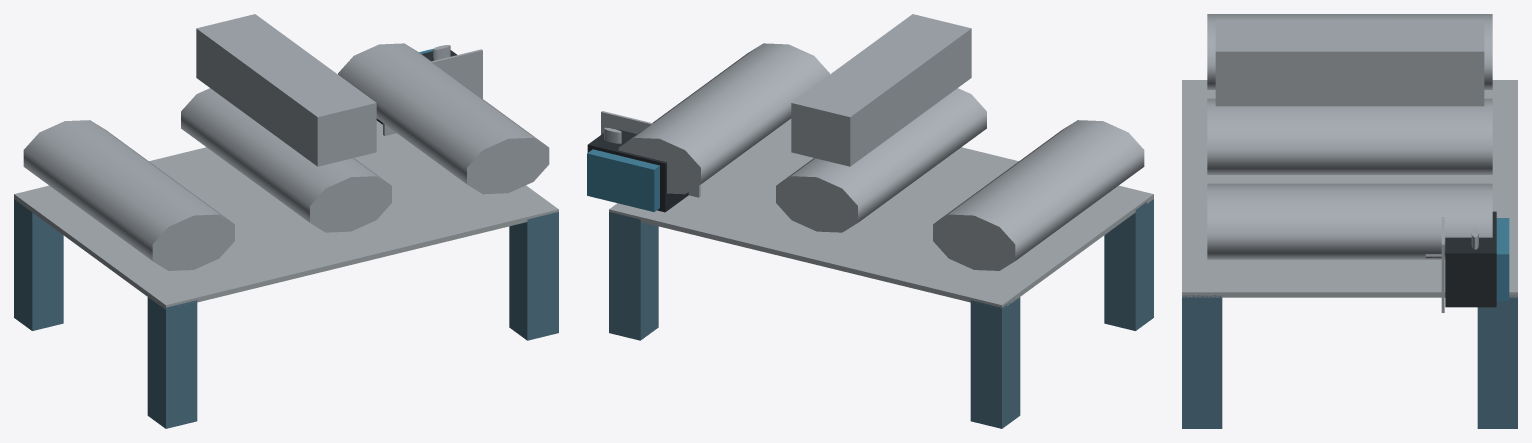
3 views of the same model, side by side, from view 1: azimuth 30°, elevation 25°; view 2: azimuth 150°, elevation 25°; view 3: azimuth 270°, elevation 25° (orthographic). The views are drawn at different scales.
Visible parts, largest first — view 1: g4, g0.005, g0, g0.003, g0.004, g1, g3, g0.002, g1.001; view 2: g4, g0.005, g0, g0.003, g0.004, g0.002, g2, g1, g3.001, g0.001, g1.001; view 3: g0, g4, g0.003, g0.004, g3, g2, g0.001, g0.005, g3.001, g1.001.
Boxes of the visible parts, x1,y1,x2,y2 form: g4: (14,120,558,309); g0.005: (23,120,234,270); g0: (196,14,376,166); g0.003: (338,43,549,194); g0.004: (181,88,391,232); g1: (147,297,197,428); g3: (509,212,558,340); g0.002: (14,199,63,330); g1.001: (383,49,482,135); g4: (609,118,1153,308); g0.005: (933,120,1144,270); g0: (791,14,971,166); g0.003: (618,43,829,194); g0.004: (776,88,986,232); g0.002: (970,297,1020,428); g2: (609,212,658,340); g1: (1104,199,1153,330); g3.001: (587,149,659,211); g0.001: (587,128,688,212); g1.001: (601,111,700,197); g0: (1215,19,1484,106); g4: (1182,80,1517,297); g0.003: (1207,183,1492,259); g0.004: (1207,98,1492,174); g3: (1182,295,1222,428); g2: (1477,295,1517,428); g0.001: (1445,211,1496,307); g0.005: (1207,14,1492,89); g3.001: (1496,218,1509,300); g1.001: (1441,217,1444,312).
Size of the model in its own units: 2.99 by 1.7 by 1.8.
